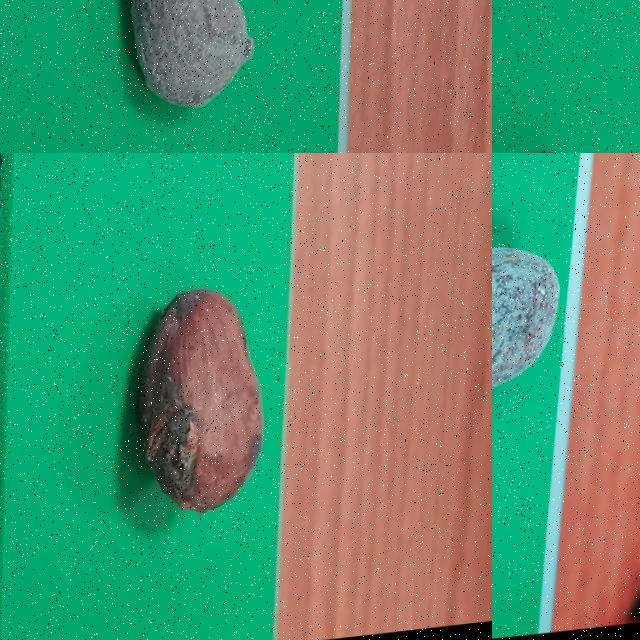Agglomerated_cocoabeans: (492, 153, 596, 499), (83, 0, 297, 149)
Fine_cocoabeans: (68, 278, 317, 588), (492, 77, 639, 152)
